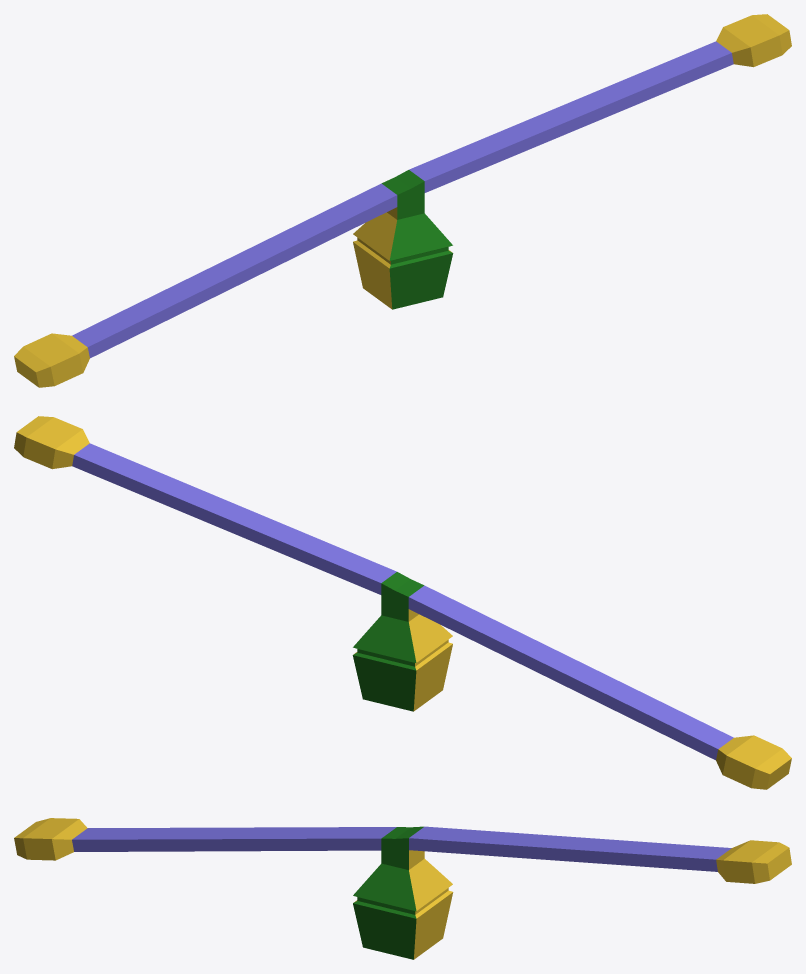
Rendered from park subibaja.fbx.
3 views of the same model, one above another, from view 1: azimuth 30°, elevation 25°; view 2: azimuth 150°, elevation 25°; view 3: azimuth 330°, elevation 25° (orthographic).
Visible parts, largest first — view 1: Cube.034; view 2: Cube.034; view 3: Cube.034.
Boxes of the visible parts, x1,y1,x2,y2 form: Cube.034: (14, 14, 791, 387); Cube.034: (14, 416, 791, 789); Cube.034: (14, 818, 791, 959).
Bounding box in the file's own units: 13.86 × 3.14 × 1.17.
